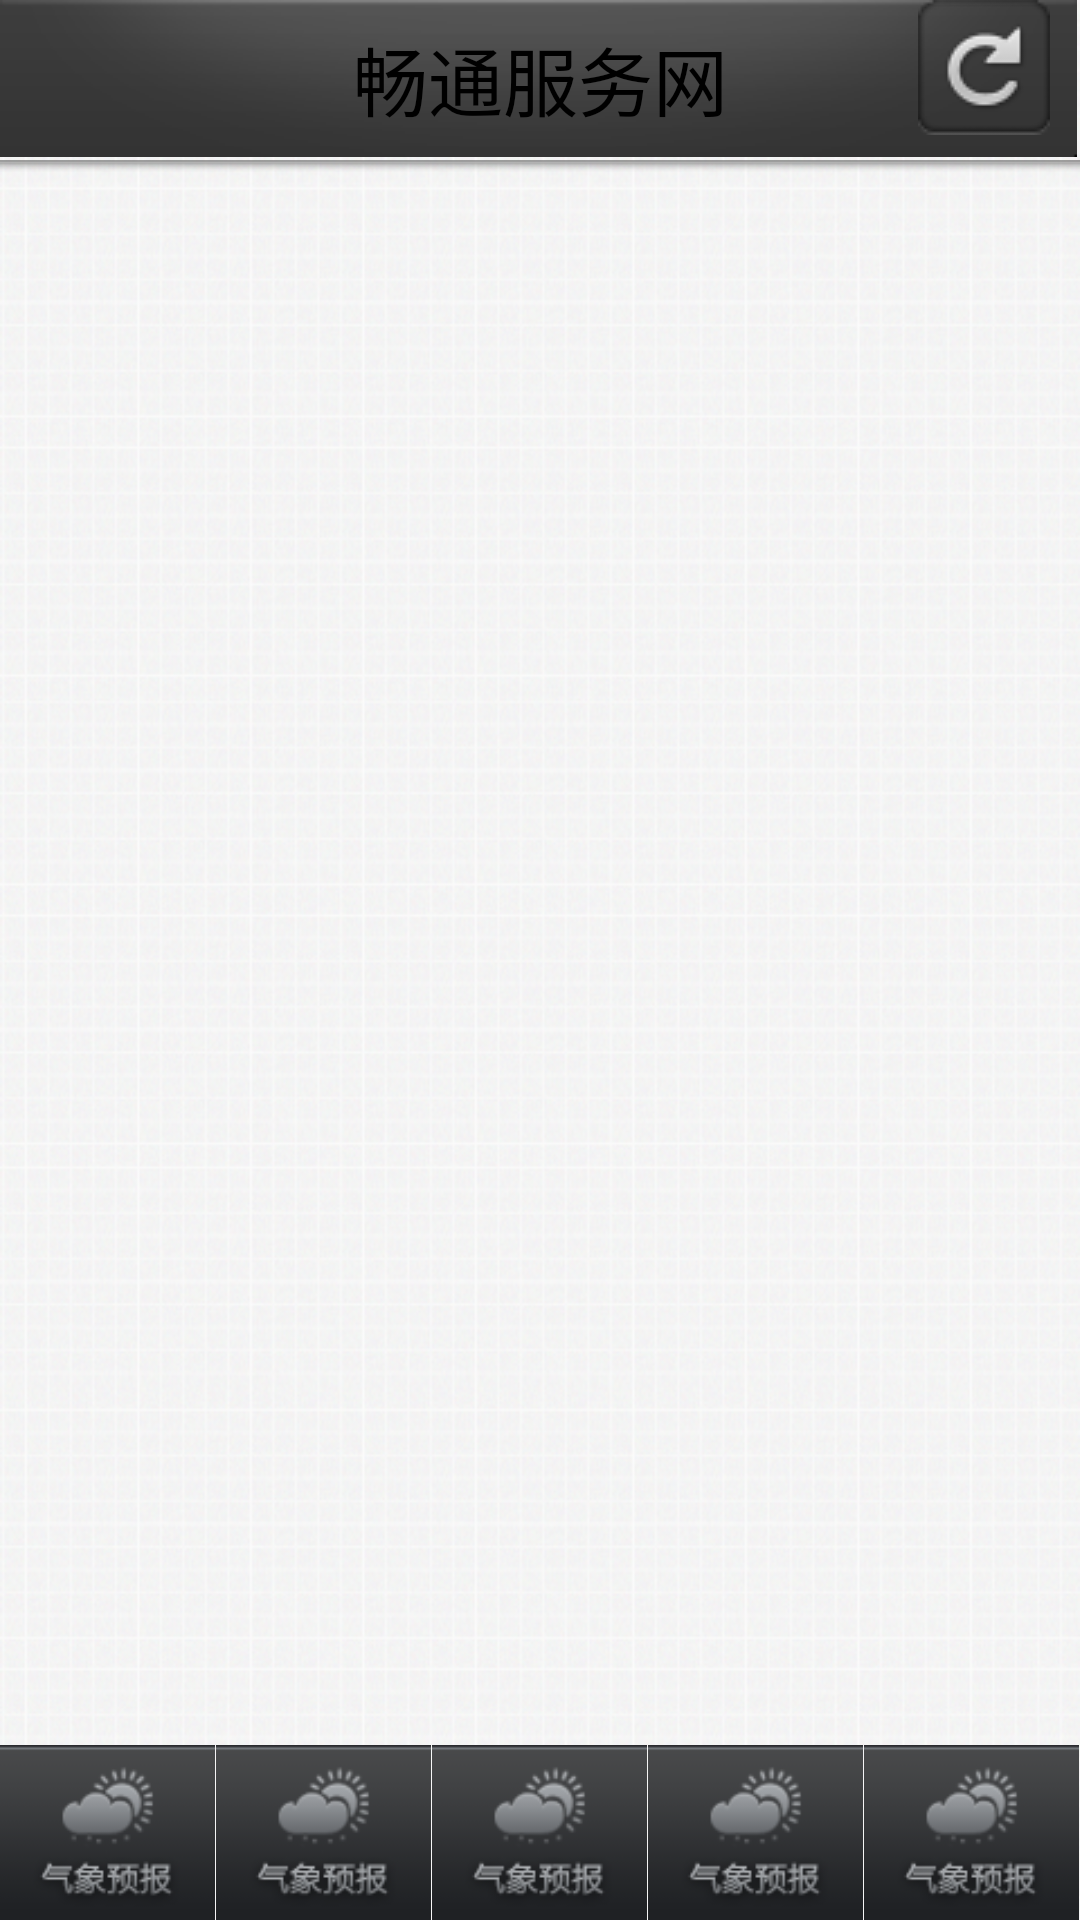

Screen size 1080 × 1920. Icon name, then its box in pixels as BBox(x1, y1, x2, y2):
shuaxin: BBox(932, 26, 1036, 135)
